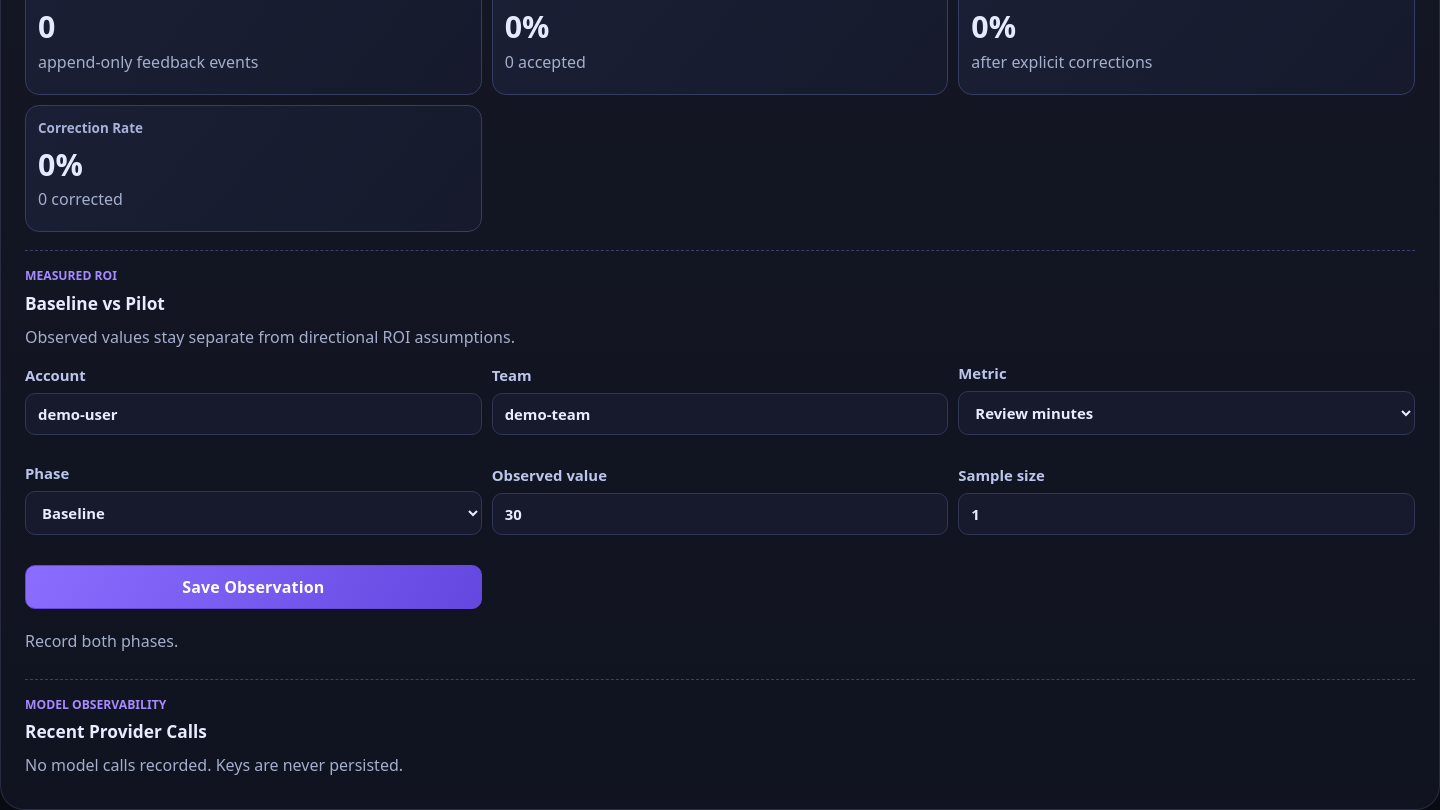
Test: quality lab › records observed baseline measurement separately from estimated ROI
(page scrolled)
Expected: the text "Record both phases." is shown, top-left (25, 630), bottom-right (178, 652)
Click the button "Save Observation" at (253, 587), box top-left (25, 565), bottom-right (482, 609)
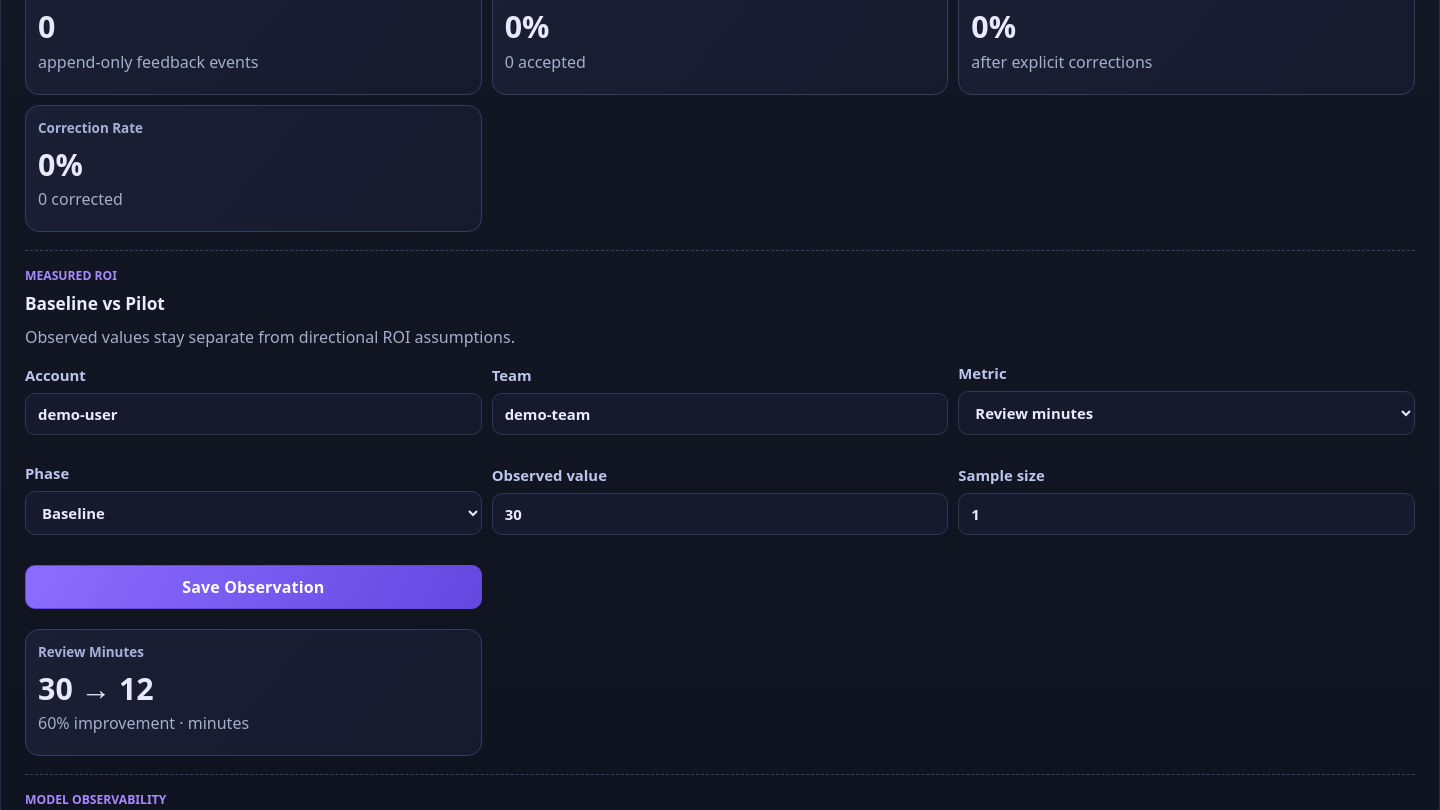
Expected: the text "30 → 12" is shown, top-left (38, 668), bottom-right (154, 709)
Expected: the text "60% improvement · minutes" is shown, top-left (38, 712), bottom-right (249, 734)
